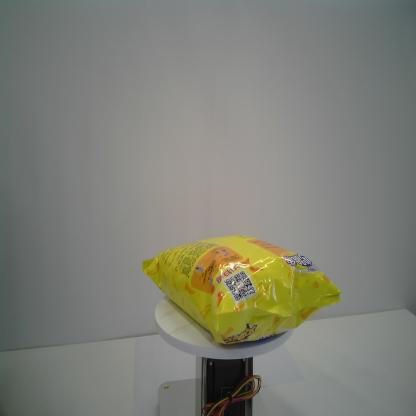Puffed Food: (140, 231, 345, 349)
